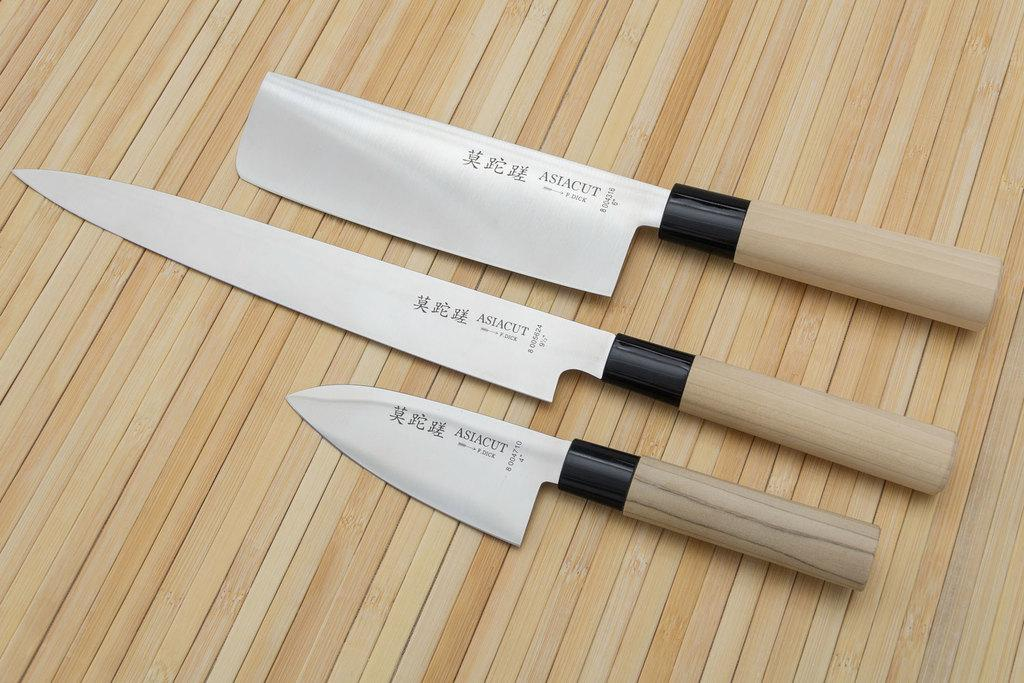Knife: (10, 165, 957, 497), (234, 70, 1004, 336), (284, 383, 878, 594)
